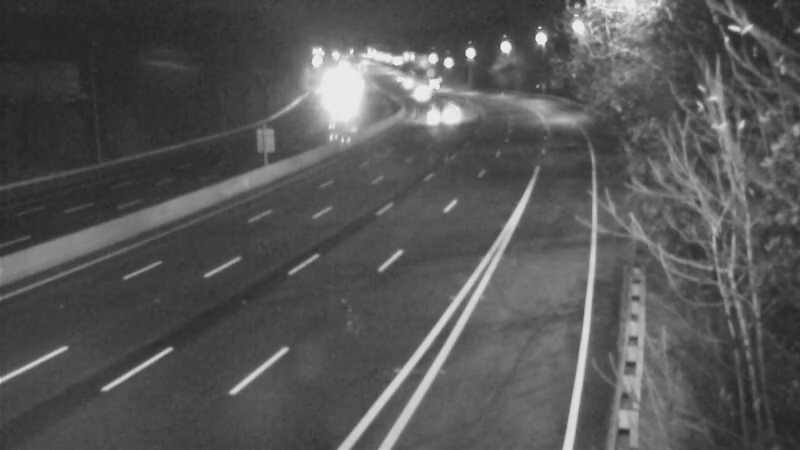vehicle: (381, 57, 431, 107), (395, 69, 445, 119), (422, 85, 472, 135), (314, 73, 364, 123)
